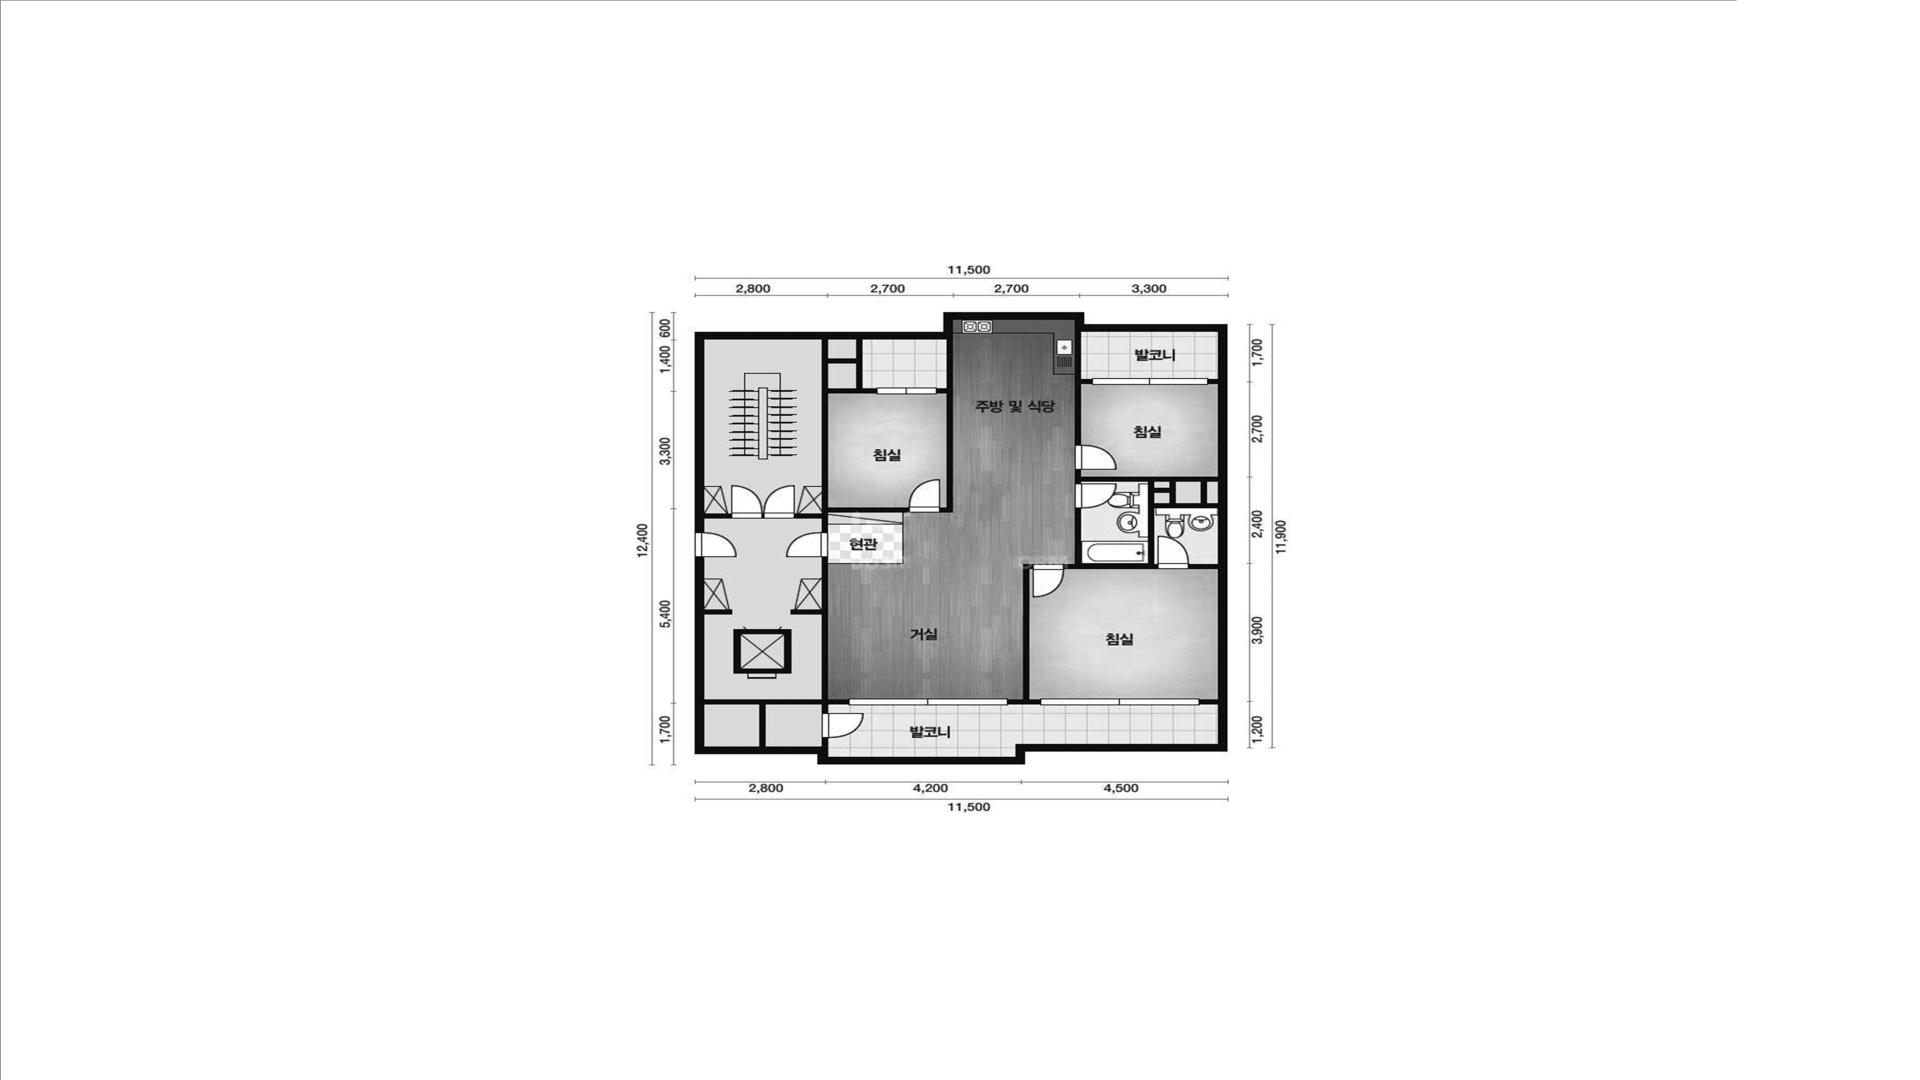background: (1, 4, 1920, 1080)
door: (731, 484, 795, 520), (1156, 535, 1189, 570), (1075, 444, 1118, 469), (694, 533, 737, 558), (1033, 564, 1065, 597), (909, 479, 940, 513), (1075, 484, 1117, 509), (822, 713, 864, 738), (786, 533, 828, 558)
wall: (694, 313, 1228, 765), (704, 558, 828, 713), (1081, 476, 1217, 563), (1009, 564, 1039, 704), (828, 340, 877, 394), (940, 340, 953, 513), (1154, 481, 1218, 508), (1075, 332, 1081, 444), (1065, 563, 1156, 570), (1075, 508, 1083, 563), (828, 508, 909, 513), (760, 704, 766, 746), (790, 609, 822, 615), (704, 609, 733, 615), (1189, 564, 1218, 570), (704, 513, 732, 518), (828, 359, 856, 364), (795, 513, 822, 518), (828, 699, 848, 704), (1200, 699, 1218, 704), (1075, 469, 1081, 484), (1154, 488, 1170, 493), (1081, 378, 1092, 384), (1208, 378, 1218, 384), (822, 738, 828, 746), (938, 389, 947, 394)
window: (1039, 698, 1200, 705), (848, 698, 1009, 705), (1092, 378, 1208, 385), (877, 388, 938, 394)
